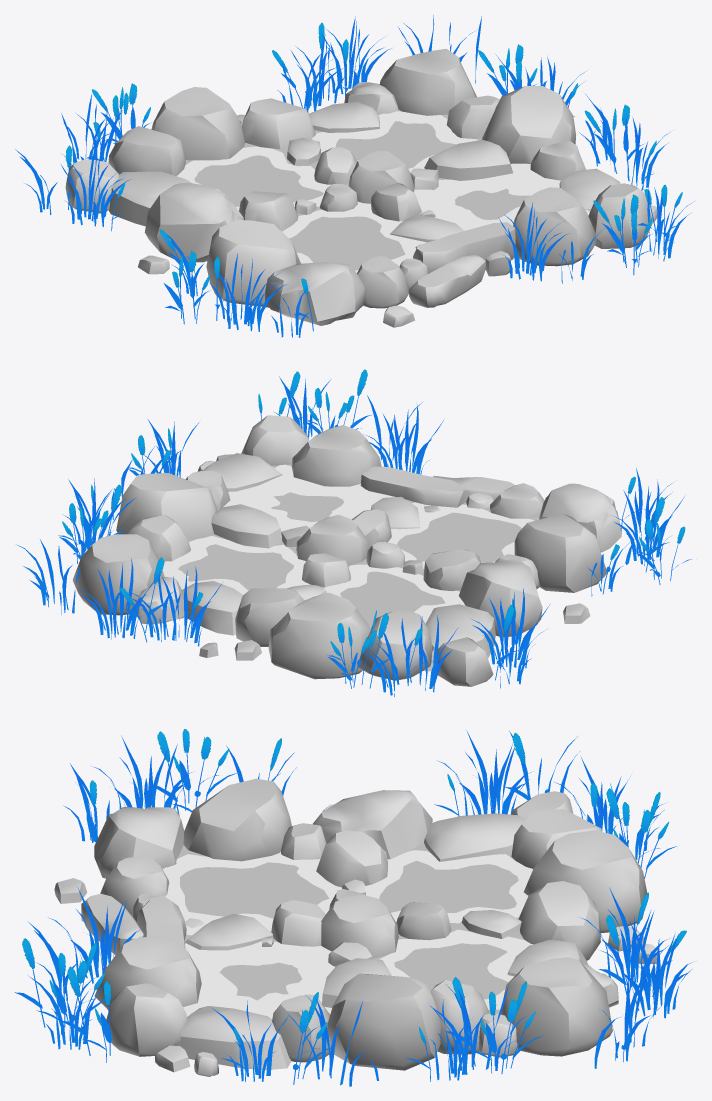
File: Homeworld_Exterior_Common_Thing_FieldBase_03_Lod0.fbx
The picture shows the model from 3 angles, top to bottom: view 1: azimuth 30°, elevation 25°; view 2: azimuth 150°, elevation 25°; view 3: azimuth 270°, elevation 25°; orthographic projection. The views are drawn at different scales.
Parts seen in each view (by area): view 1: Homeworld_Exterior_Common_Thing_FieldBase_03_Lod0, Homeworld_Exterior_Common_Thing_FieldGrass_03_Lod0, Homeworld_Exterior_Common_Thing_Field_03_Vo, Homeworld_Exterior_Common_Thing_FieldBase_03_A_Vo; view 2: Homeworld_Exterior_Common_Thing_FieldBase_03_Lod0, Homeworld_Exterior_Common_Thing_FieldGrass_03_Lod0, Homeworld_Exterior_Common_Thing_Field_03_Vo, Homeworld_Exterior_Common_Thing_FieldBase_03_A_Vo; view 3: Homeworld_Exterior_Common_Thing_FieldBase_03_Lod0, Homeworld_Exterior_Common_Thing_FieldGrass_03_Lod0, Homeworld_Exterior_Common_Thing_Field_03_Vo, Homeworld_Exterior_Common_Thing_FieldBase_03_A_Vo.
Boxes of the visible parts, <box> form: Homeworld_Exterior_Common_Thing_FieldBase_03_Lod0: <box>65,48,657,327</box>; Homeworld_Exterior_Common_Thing_FieldGrass_03_Lod0: <box>15,15,694,337</box>; Homeworld_Exterior_Common_Thing_Field_03_Vo: <box>176,110,590,270</box>; Homeworld_Exterior_Common_Thing_FieldBase_03_A_Vo: <box>177,111,589,273</box>; Homeworld_Exterior_Common_Thing_FieldBase_03_Lod0: <box>72,415,621,686</box>; Homeworld_Exterior_Common_Thing_FieldGrass_03_Lod0: <box>16,369,691,696</box>; Homeworld_Exterior_Common_Thing_Field_03_Vo: <box>178,464,539,626</box>; Homeworld_Exterior_Common_Thing_FieldBase_03_A_Vo: <box>162,464,534,627</box>; Homeworld_Exterior_Common_Thing_FieldBase_03_Lod0: <box>54,778,657,1076</box>; Homeworld_Exterior_Common_Thing_FieldGrass_03_Lod0: <box>14,729,692,1086</box>; Homeworld_Exterior_Common_Thing_Field_03_Vo: <box>162,843,527,1016</box>; Homeworld_Exterior_Common_Thing_FieldBase_03_A_Vo: <box>163,850,532,1018</box>.
Size of the model in its own units: 6.57 by 0.934 by 6.16.
